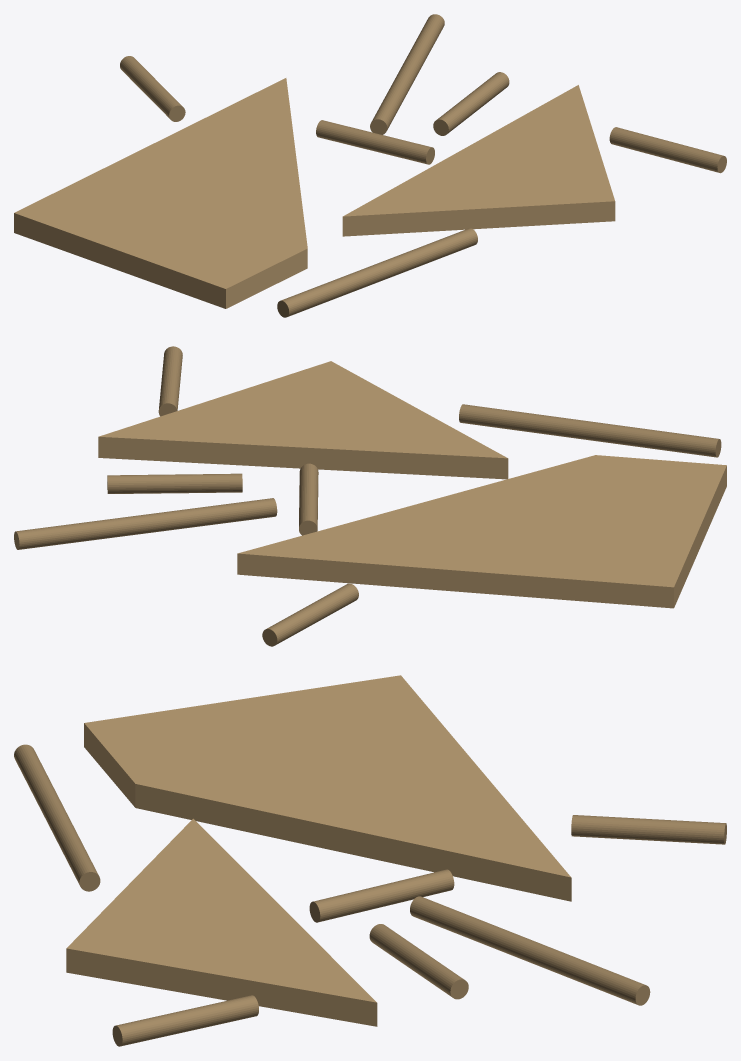
The model's file is broken_desk.fbx.
3 renders of one model, top to bottom at view 1: azimuth 30°, elevation 25°; view 2: azimuth 150°, elevation 25°; view 3: azimuth 270°, elevation 25°, orthographic. The views are drawn at different scales.
Parts seen in each view (by area): view 1: Cube, Cube.001, Cylinder, Cylinder.003, Cylinder.005, Cylinder.001, Cylinder.002, Cylinder.004; view 2: Cube, Cube.001, Cylinder.003, Cylinder, Cylinder.002, Cylinder.004, Cylinder.005, Cylinder.001; view 3: Cube, Cube.001, Cylinder.003, Cylinder, Cylinder.004, Cylinder.001, Cylinder.005, Cylinder.002.
Boxes of the visible parts, x1,y1,x2,y2 form: Cube: [14, 78, 307, 308]; Cube.001: [342, 85, 615, 236]; Cylinder: [277, 228, 477, 317]; Cylinder.003: [370, 14, 444, 134]; Cylinder.005: [316, 120, 434, 164]; Cylinder.001: [609, 127, 726, 173]; Cylinder.002: [433, 72, 509, 135]; Cylinder.004: [120, 56, 185, 121]; Cube: [237, 455, 726, 608]; Cube.001: [98, 361, 508, 479]; Cylinder.003: [14, 498, 277, 549]; Cylinder: [459, 404, 721, 457]; Cylinder.002: [107, 473, 242, 493]; Cylinder.004: [262, 583, 358, 646]; Cylinder.005: [299, 463, 318, 535]; Cylinder.001: [158, 346, 182, 416]; Cube: [84, 675, 571, 901]; Cube.001: [66, 818, 377, 1026]; Cylinder.003: [410, 896, 650, 1005]; Cylinder: [14, 744, 100, 891]; Cylinder.004: [571, 815, 726, 844]; Cylinder.001: [112, 995, 258, 1046]; Cylinder.005: [309, 869, 454, 922]; Cylinder.002: [369, 924, 468, 999].
Bounding box in the file's own units: 541 × 17.31 × 462.
